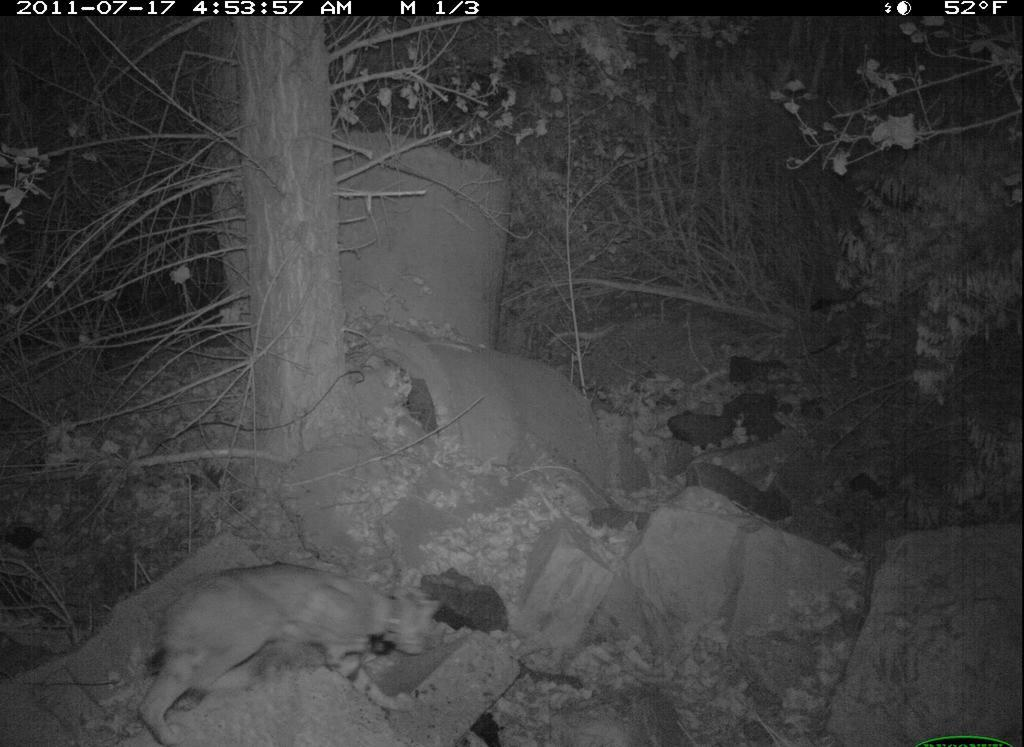bobcat: (129, 553, 449, 747)
